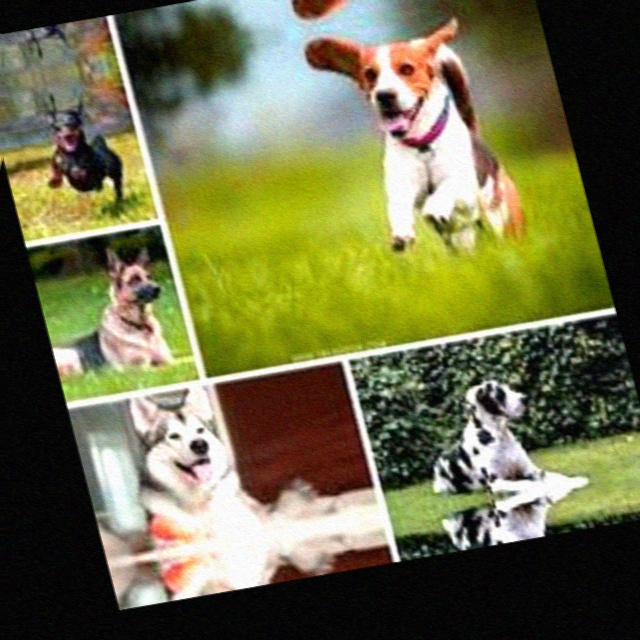dog: (298, 0, 583, 267), (111, 371, 309, 556), (391, 349, 584, 508), (32, 240, 217, 383), (9, 88, 151, 224), (425, 480, 596, 555), (152, 528, 321, 602), (286, 0, 521, 27), (0, 16, 107, 56)
